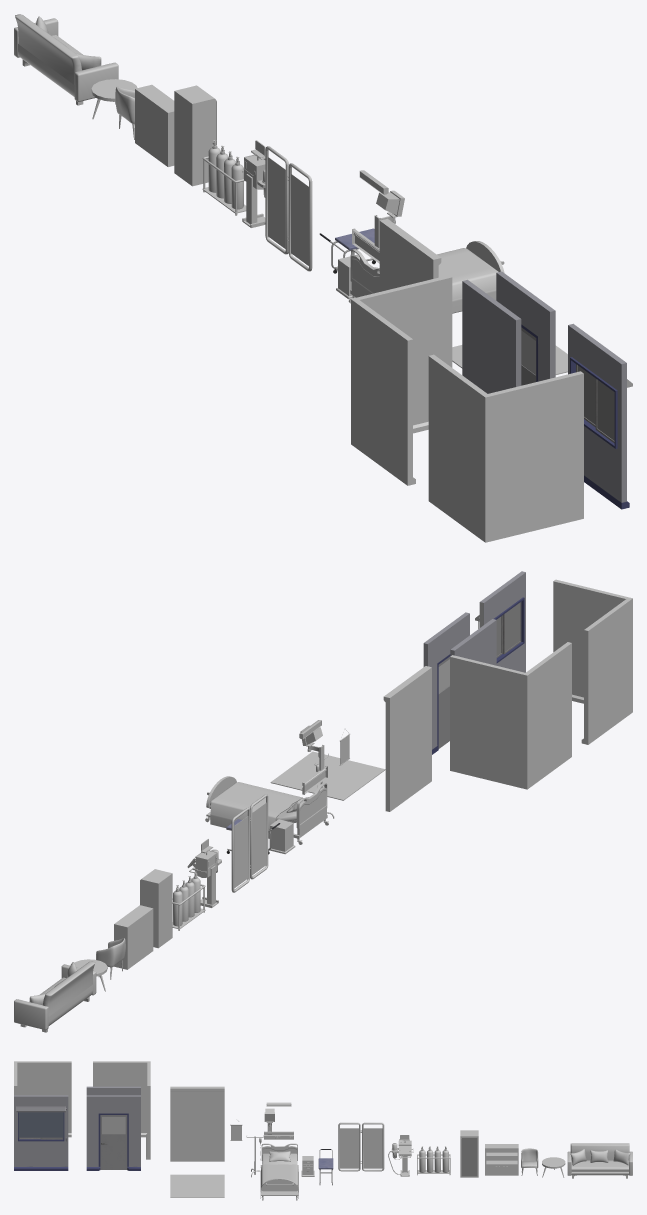
The model's file is HabitacionHospital.fbx.
3 renders of one model, top to bottom at view 1: azimuth 30°, elevation 25°; view 2: azimuth 150°, elevation 25°; view 3: azimuth 270°, elevation 25°, orthographic. The views are drawn at different scales.
Visible parts, largest first — view 1: CornerWall_L.001, CornerWall_R.001, WindowWall.001, Wall.001, Sofa, Curtain, Bed, Cabinet1, Wall3.001, DoorWall.001, Cabinet2, Oxygen (+2 smaller); view 2: CornerWall_R.001, CornerWall_L.001, Wall3.001, Bed, WindowWall.001, Sofa, Curtain, Ground.001, DoorWall.001, Cabinet1, Cabinet2, Wall.001 (+4 smaller); view 3: Wall3.001, WindowWall.001, DoorWall.001, CornerWall_L.001, Curtain, Sofa, CornerWall_R.001, Bed, Door.001, Ground.001, Cabinet2, Oxygen (+10 smaller).
Part boxes in pixels (x1=…): CornerWall_L.001: x1=428, y1=354, x2=583, y2=542; CornerWall_R.001: x1=351, y1=275, x2=452, y2=485; WindowWall.001: x1=568, y1=323, x2=632, y2=509; Wall.001: x1=462, y1=279, x2=521, y2=393; Sofa: x1=14, y1=14, x2=118, y2=105; Curtain: x1=265, y1=146, x2=312, y2=271; Bed: x1=348, y1=241, x2=504, y2=313; Cabinet1: x1=174, y1=85, x2=214, y2=186; Wall3.001: x1=379, y1=218, x2=441, y2=291; DoorWall.001: x1=496, y1=271, x2=555, y2=381; Cabinet2: x1=135, y1=84, x2=174, y2=166; Oxygen: x1=202, y1=140, x2=246, y2=215; CornerWall_R.001: x1=450, y1=642, x2=571, y2=789; CornerWall_L.001: x1=553, y1=579, x2=632, y2=744; Wall3.001: x1=383, y1=666, x2=431, y2=811; Bed: x1=205, y1=776, x2=328, y2=844; WindowWall.001: x1=475, y1=571, x2=525, y2=672; Sofa: x1=14, y1=961, x2=96, y2=1032; Curtain: x1=231, y1=794, x2=268, y2=892; Ground.001: x1=270, y1=751, x2=385, y2=800; DoorWall.001: x1=423, y1=612, x2=469, y2=754; Cabinet1: x1=141, y1=869, x2=172, y2=948; Cabinet2: x1=114, y1=905, x2=153, y2=969; Wall.001: x1=450, y1=619, x2=496, y2=665; Wall3.001: x1=170, y1=1086, x2=224, y2=1161; WindowWall.001: x1=14, y1=1095, x2=68, y2=1170; DoorWall.001: x1=86, y1=1095, x2=140, y2=1170; CornerWall_L.001: x1=14, y1=1061, x2=71, y2=1137; Curtain: x1=338, y1=1122, x2=384, y2=1171; Sofa: x1=567, y1=1143, x2=632, y2=1178; CornerWall_R.001: x1=93, y1=1061, x2=150, y2=1159; Bed: x1=260, y1=1143, x2=298, y2=1200; Door.001: x1=100, y1=1115, x2=127, y2=1169; Ground.001: x1=170, y1=1174, x2=224, y2=1197; Cabinet2: x1=485, y1=1144, x2=518, y2=1175; Oxygen: x1=417, y1=1146, x2=450, y2=1175.
Bounding box in the file's own units: 93.74 × 49.1 × 370.
